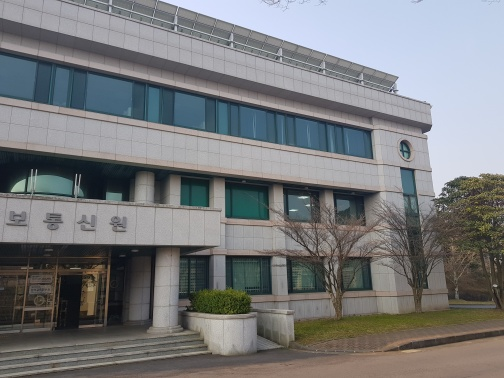Information Telecommunication Center: (2, 3, 439, 309), (8, 260, 151, 335), (3, 196, 155, 252)
